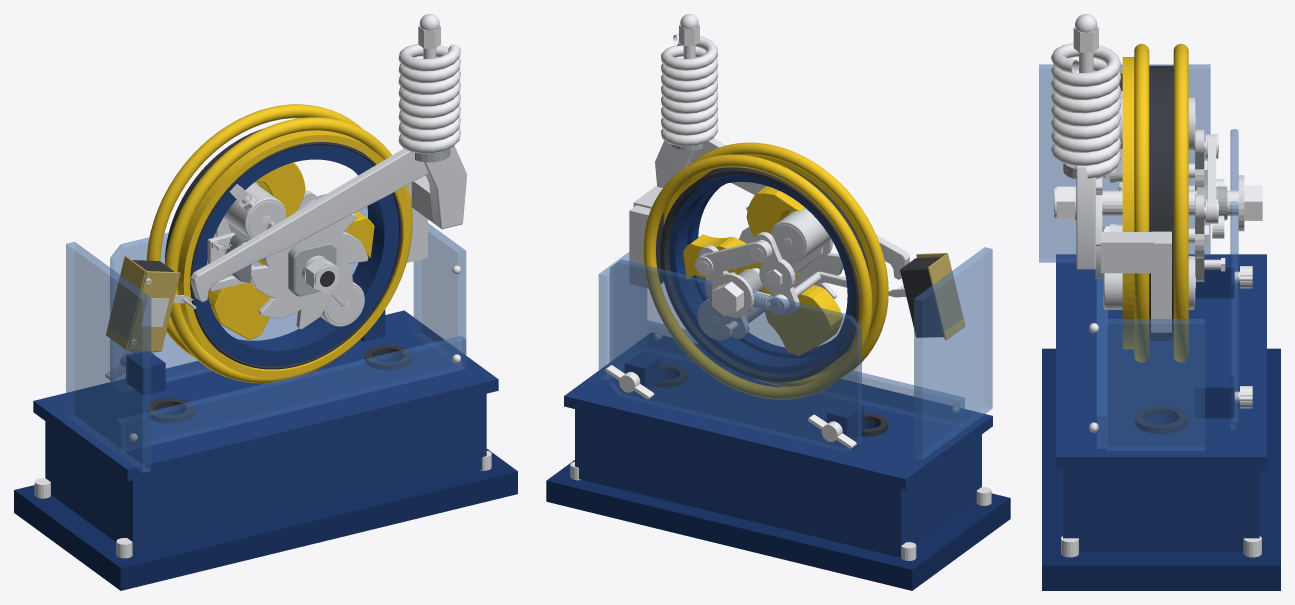
File: overspeed_governor.glb
3 views of the same model, side by side, from view 1: azimuth 30°, elevation 25°; view 2: azimuth 150°, elevation 25°; view 3: azimuth 270°, elevation 25° (orthographic). The views are drawn at different scales.
Visible parts, largest first — view 1: BaseFrame, Cover, Pulley, Catch, Spring, Ratchet, PendA, PendB; view 2: BaseFrame, Cover, Pulley, Spring, Catch, PendA, PendB, PendTie, Ratchet, PendSpring; view 3: BaseFrame, Cover, Pulley, Spring, Catch, PendB, PendA, PendTie, Ratchet, PendSpring.
Boxes of the visible parts, x1=… form: BaseFrame: x1=14, y1=239, x2=517, y2=590; Cover: x1=66, y1=194, x2=466, y2=472; Pulley: x1=146, y1=104, x2=412, y2=383; Catch: x1=190, y1=145, x2=467, y2=302; Spring: x1=398, y1=14, x2=460, y2=162; Ratchet: x1=250, y1=199, x2=368, y2=329; PendA: x1=215, y1=182, x2=286, y2=259; PendB: x1=261, y1=190, x2=364, y2=326; BaseFrame: x1=546, y1=253, x2=1010, y2=590; Cover: x1=598, y1=247, x2=992, y2=459; Pulley: x1=643, y1=142, x2=888, y2=399; Spring: x1=661, y1=14, x2=718, y2=150; Catch: x1=629, y1=138, x2=909, y2=288; PendA: x1=753, y1=187, x2=851, y2=314; PendB: x1=697, y1=245, x2=764, y2=340; PendTie: x1=695, y1=240, x2=772, y2=275; Ratchet: x1=739, y1=206, x2=843, y2=298; PendSpring: x1=707, y1=281, x2=789, y2=315; BaseFrame: x1=1042, y1=72, x2=1280, y2=590; Cover: x1=1039, y1=64, x2=1262, y2=450; Pulley: x1=1118, y1=43, x2=1194, y2=362; Spring: x1=1051, y1=14, x2=1121, y2=178; Catch: x1=1076, y1=166, x2=1171, y2=332; PendB: x1=1103, y1=194, x2=1225, y2=309; PendA: x1=1103, y1=71, x2=1225, y2=190; PendTie: x1=1205, y1=134, x2=1218, y2=223; Ratchet: x1=1095, y1=177, x2=1102, y2=278; PendSpring: x1=1212, y1=179, x2=1227, y2=238.
Bounding box in the file's own units: 0.365 × 0.4227 × 0.172.
